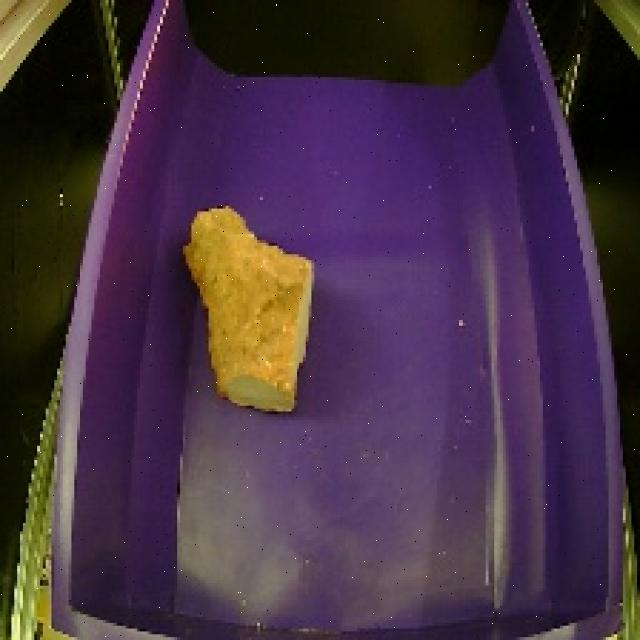brick: (176, 194, 326, 422)
